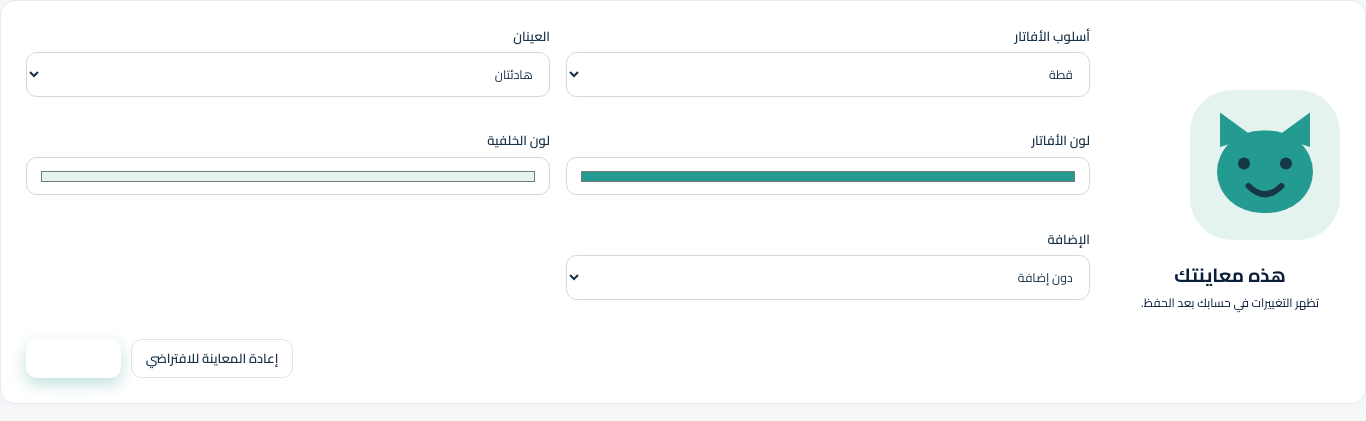
it: reset changes preview only until student saves
This screenshot has width=1366, height=421.
Click the button "إعادة المعاينة للافتراضي".
click(212, 358)  # box [131, 339, 293, 378]
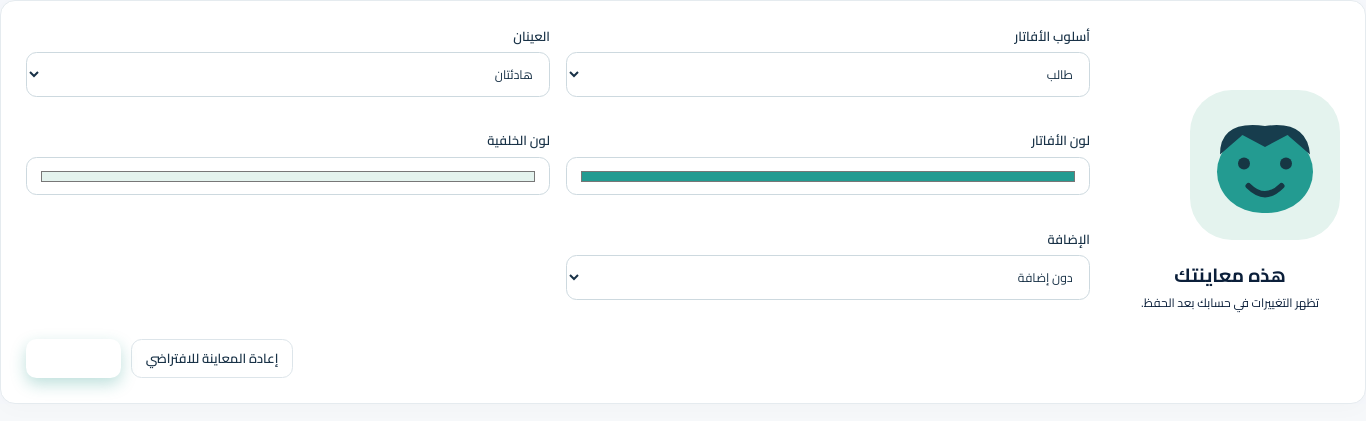
Expected: the picture named "أفاتار طالب" is shown, [1190, 90, 1340, 240]
